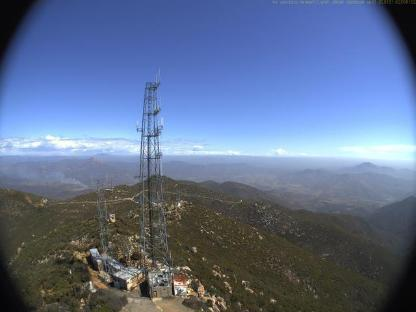smoke: (19, 166, 90, 190)
